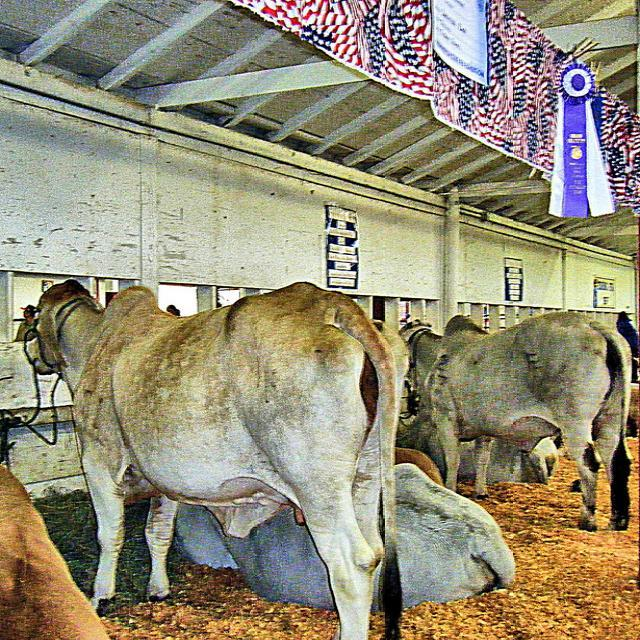cow: (20, 275, 415, 639), (397, 308, 629, 535), (173, 467, 517, 610), (0, 463, 108, 639), (393, 407, 556, 484)
